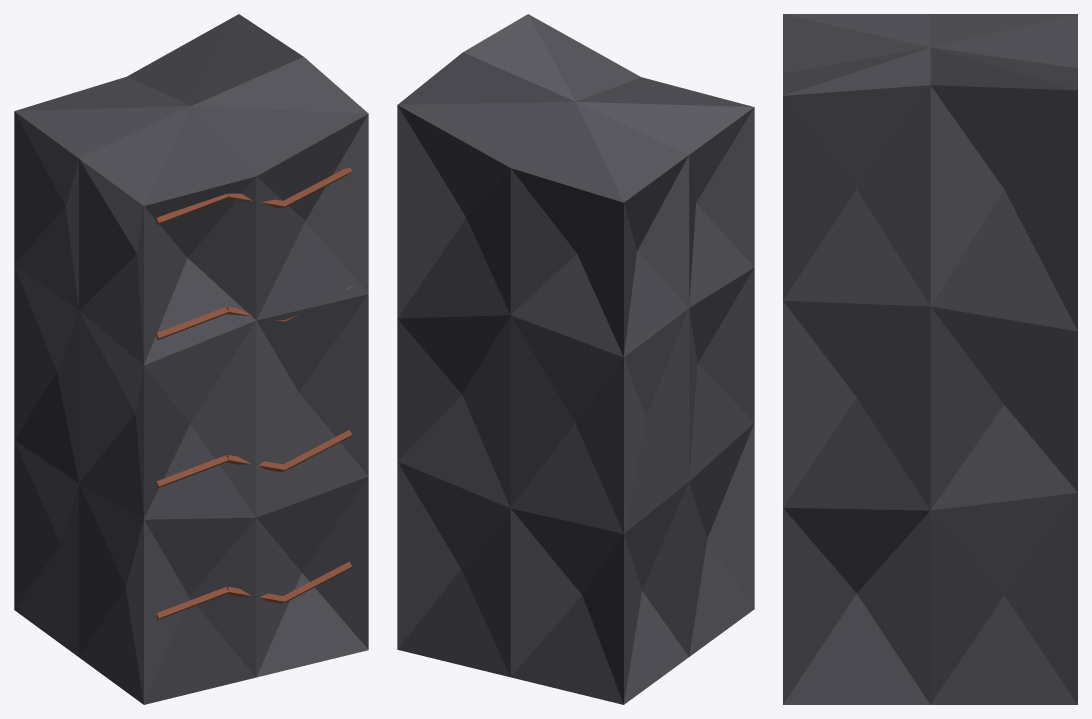
File: iron_wall_b.glb
3 renders of one model, left to right at view 1: azimuth 30°, elevation 25°; view 2: azimuth 150°, elevation 25°; view 3: azimuth 270°, elevation 25°, orthographic. The views are drawn at different scales.
Visible parts, largest first — view 1: geometry; view 2: geometry; view 3: geometry.
Part boxes in pixels (box(x1,y1,x2,y2)): geometry: box(14, 14, 368, 704); geometry: box(397, 14, 754, 704); geometry: box(783, 14, 1077, 704).
Size of the model in its own units: 1 by 2.32 by 1.
